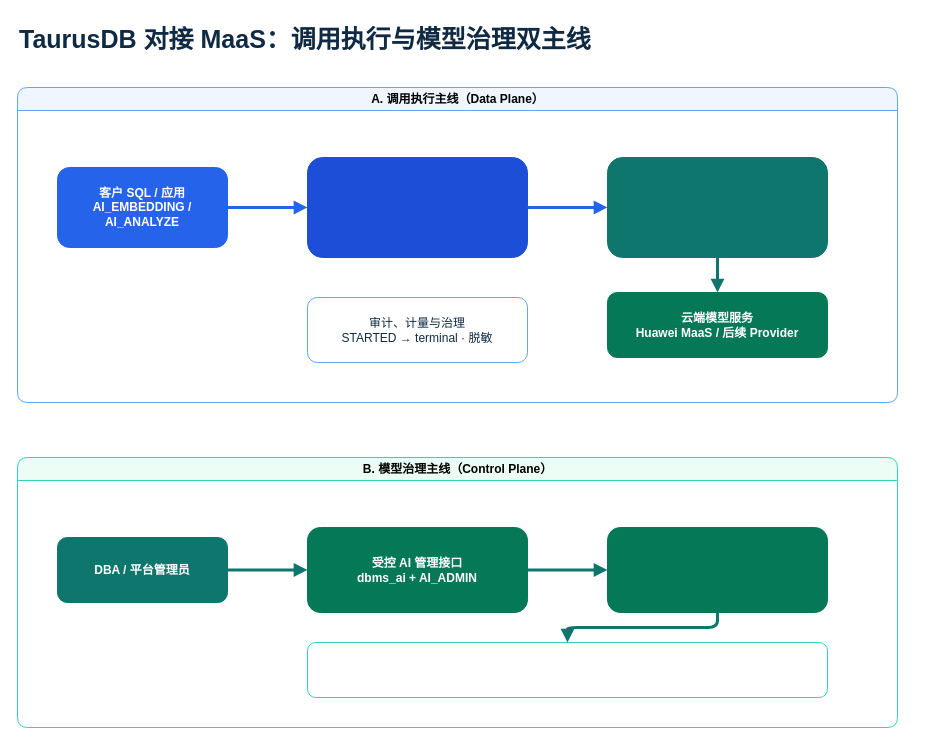
Image size: 935x745. Some labels were removed from this diagram. Each missing label, with the centre of its shape:
"AI 执行运行时 SQL 契约、权限、配置快照" goes at point (417, 207).
"校验、发布与运行时刷新 凭据 / 协议 / 连通性 / 版本" goes at point (567, 670).
"模型生命周期与授权 新增 / 更新 / 停用 / GRANT" goes at point (717, 569).
"能力、Adapter 与网络传输 HTTP/TLS · 受控出口" goes at point (717, 207).
